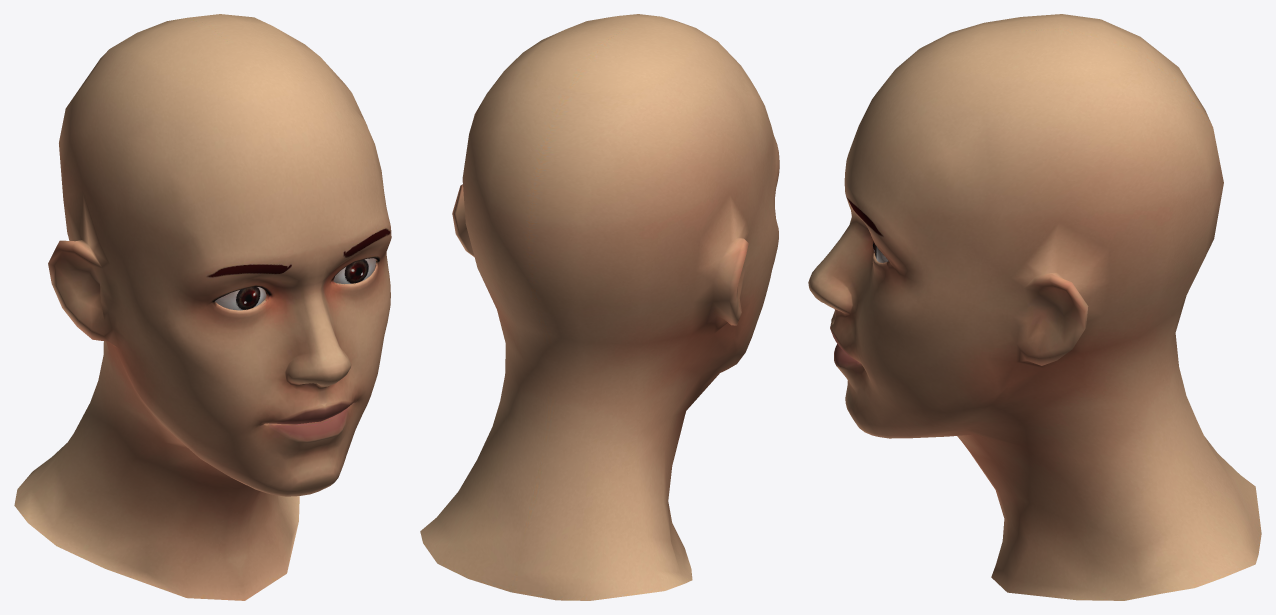
Rendered from 231027_G_MaleHead_WebBuilderTest.glb.
3 renders of one model, left to right at view 1: azimuth 30°, elevation 25°; view 2: azimuth 150°, elevation 25°; view 3: azimuth 270°, elevation 25°, orthographic. The views are drawn at different scales.
Visible parts, largest first — view 1: G_MaleHead; view 2: G_MaleHead; view 3: G_MaleHead.
Boxes of the visible parts, <box> form: G_MaleHead: <box>14,14,391,600</box>; G_MaleHead: <box>420,14,779,600</box>; G_MaleHead: <box>808,14,1261,600</box>.
Bounding box in the file's own units: 0.1786 × 0.3125 × 0.234.
Materials: 1 (1 with a texture image).
